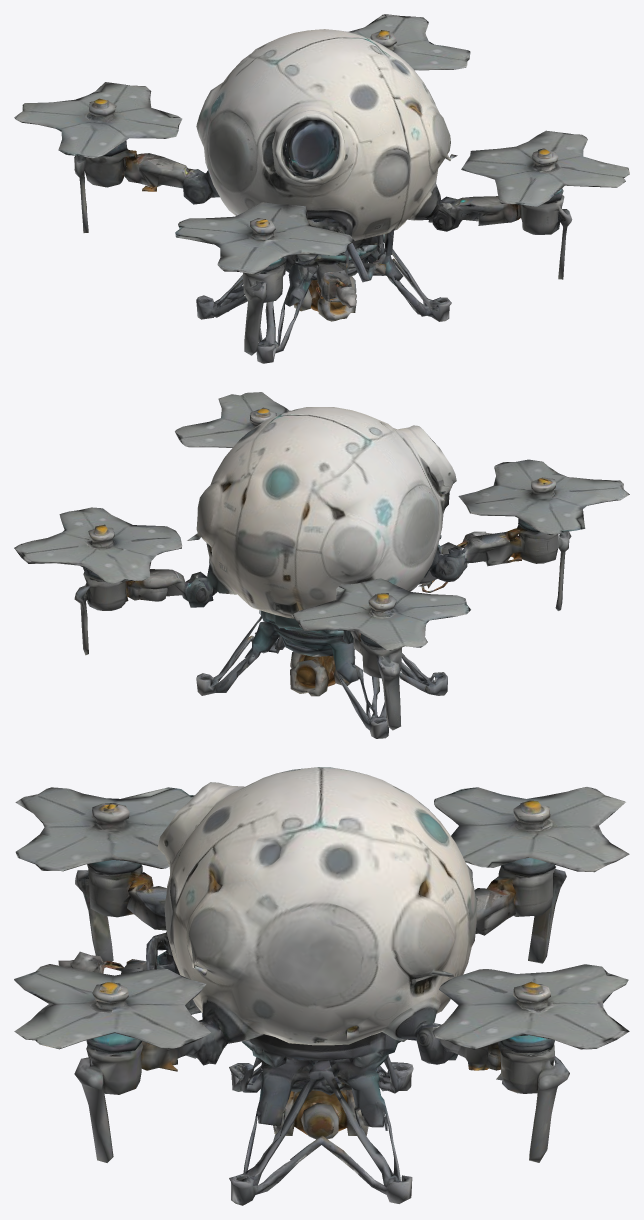
File: drone.glb
The picture shows the model from 3 angles, top to bottom: view 1: azimuth 30°, elevation 25°; view 2: azimuth 150°, elevation 25°; view 3: azimuth 270°, elevation 25°; orthographic projection. The views are drawn at different scales.
Parts seen in each view (by area): view 1: model; view 2: model; view 3: model.
Boxes of the visible parts, x1=… form: model: x1=14, y1=14, x2=629, y2=363; model: x1=14, y1=392, x2=629, y2=738; model: x1=14, y1=767, x2=629, y2=1205.
Bounding box in the file's own units: 2 × 1.29 × 1.98.
1 material, 1 textured.
